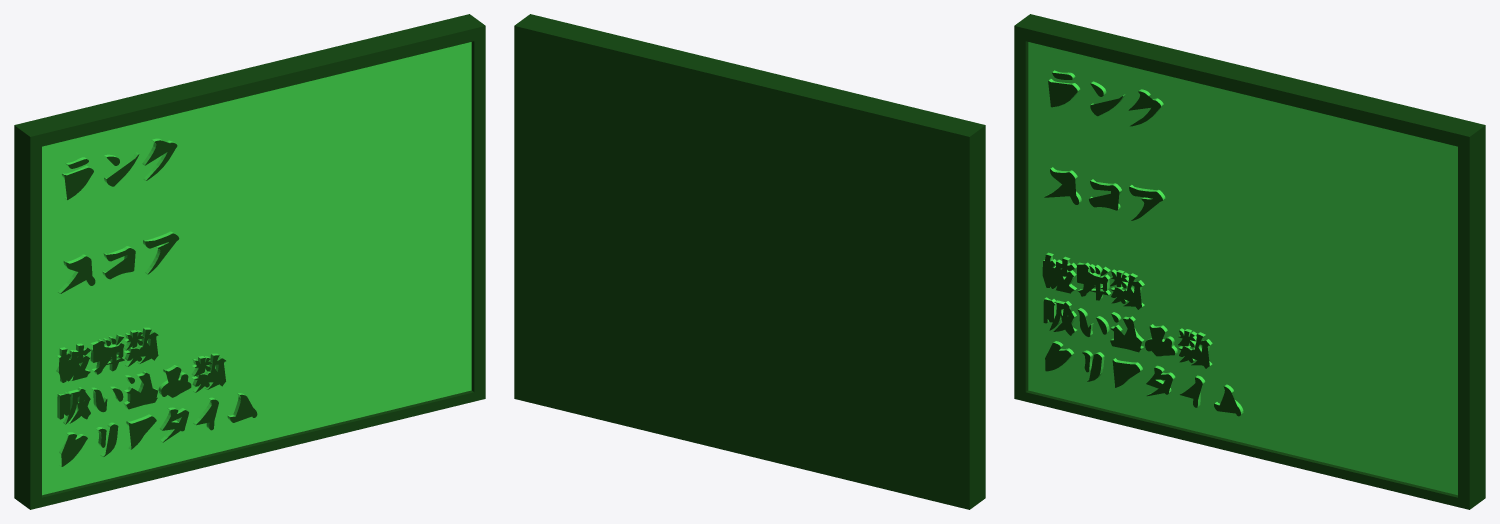
File: ScoreBoard.fbx
3 views of the same model, side by side, from view 1: azimuth 30°, elevation 25°; view 2: azimuth 150°, elevation 25°; view 3: azimuth 330°, elevation 25° (orthographic).
Visible parts, largest first — view 1: 立方体; view 2: 立方体; view 3: 立方体.
Part boxes in pixels (x1=…): 立方体: x1=14, y1=14, x2=485, y2=509; 立方体: x1=514, y1=14, x2=985, y2=509; 立方体: x1=1014, y1=14, x2=1485, y2=509.
Size of the model in its own units: 566 by 443 by 34.86.
